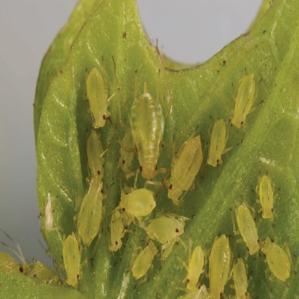Green peach aphid: (127, 84, 169, 183), (164, 129, 206, 206), (64, 174, 107, 247), (73, 61, 119, 129), (223, 74, 266, 133), (254, 231, 295, 291), (224, 194, 264, 254), (249, 169, 289, 226), (50, 232, 92, 286), (140, 211, 192, 251), (205, 230, 234, 299), (201, 118, 238, 171), (76, 129, 114, 180), (99, 206, 139, 254), (125, 236, 161, 288), (111, 182, 161, 218), (226, 254, 259, 299), (184, 242, 211, 294)
